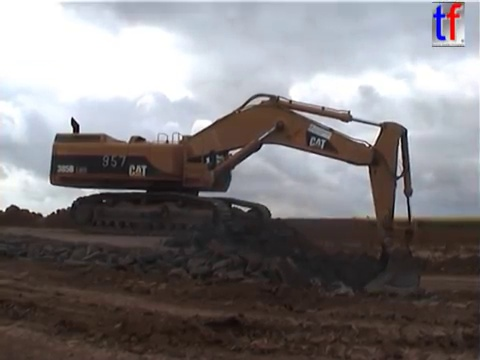excavator: (46, 90, 423, 303)
